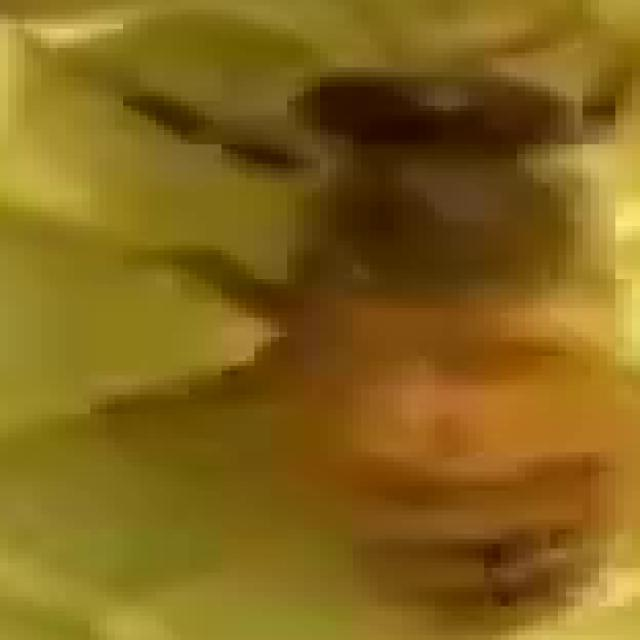honeybee: (179, 62, 640, 640)
